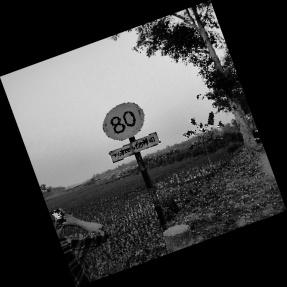Speed-limit: (103, 102, 160, 164)
